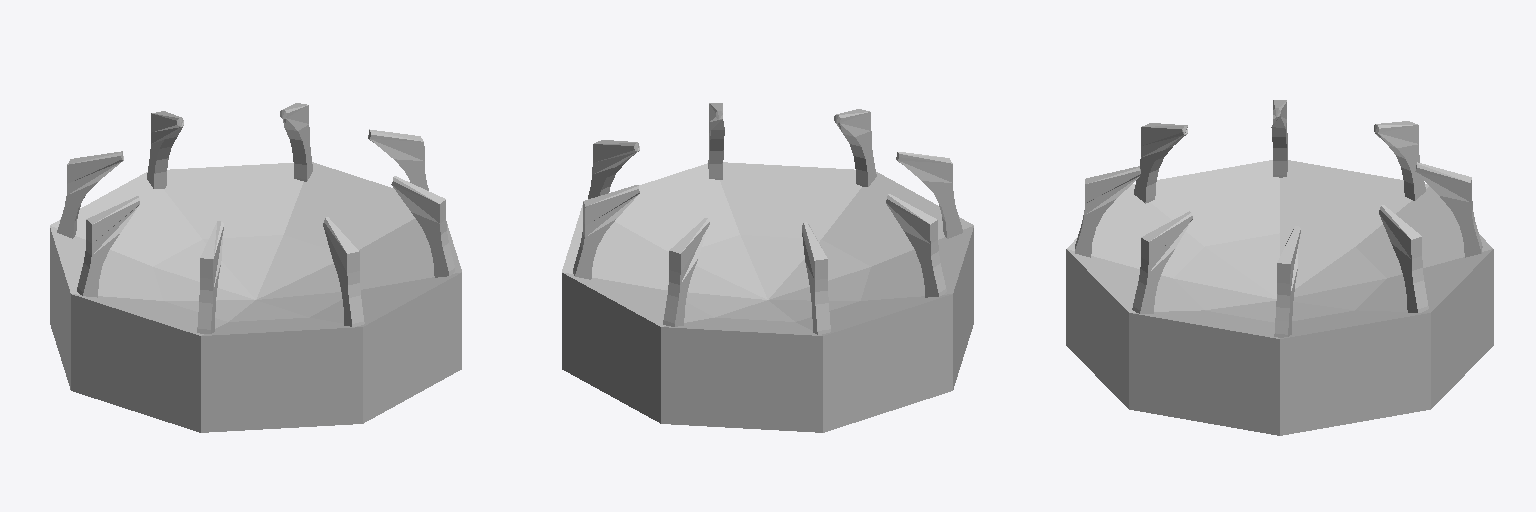
The model's file is hologramemitter.obj.
The picture shows the model from 3 angles: view 1: azimuth 30°, elevation 25°; view 2: azimuth 150°, elevation 25°; view 3: azimuth 270°, elevation 25°; orthographic projection.
Parts seen in each view (by area): view 1: pCube11; view 2: pCube11; view 3: pCube11.
Boxes of the visible parts, x1,y1,x2,y2 form: pCube11: [50, 103, 461, 432]; pCube11: [562, 103, 973, 432]; pCube11: [1066, 100, 1493, 435].
Bounding box in the file's own units: 0.8 × 0.3706 × 0.8.